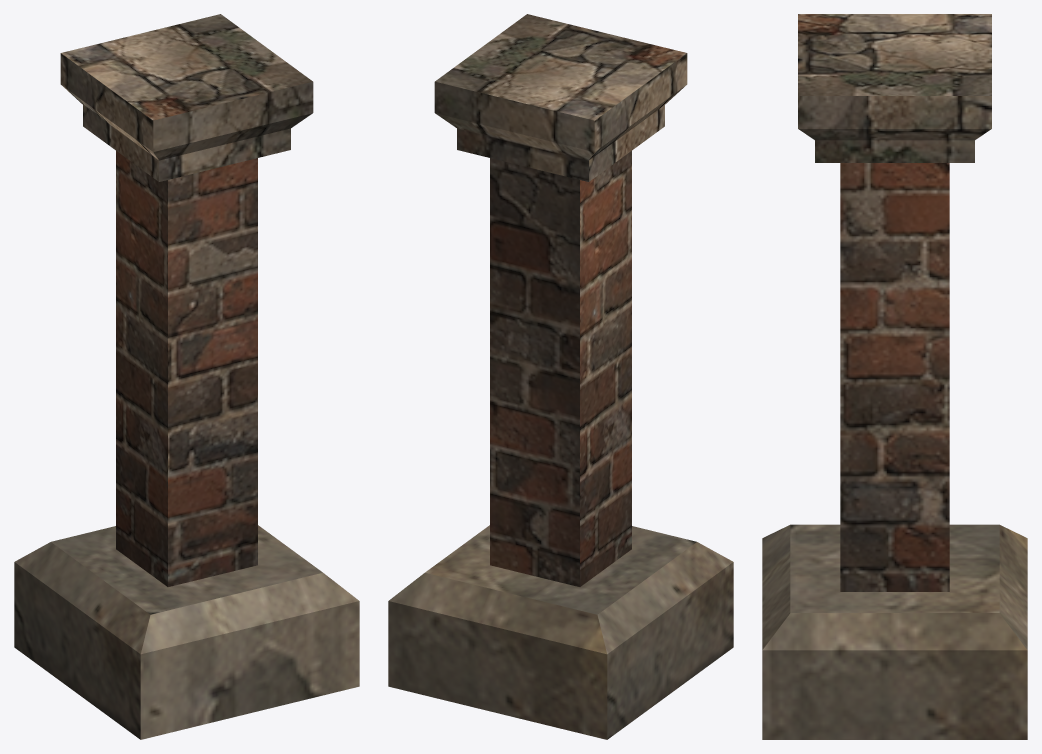
Rendered from column_brick_1.fbx.
3 views of the same model, side by side, from view 1: azimuth 30°, elevation 25°; view 2: azimuth 150°, elevation 25°; view 3: azimuth 270°, elevation 25° (orthographic). The views are drawn at different scales.
Parts seen in each view (by area): view 1: column_brick_1; view 2: column_brick_1; view 3: column_brick_1.
Part boxes in pixels (x1,y1,x2,y2): column_brick_1: (14,14,359,739); column_brick_1: (388,14,733,739); column_brick_1: (762,14,1027,739).
Bounding box in the file's own units: 1.7 × 4.46 × 1.7.
